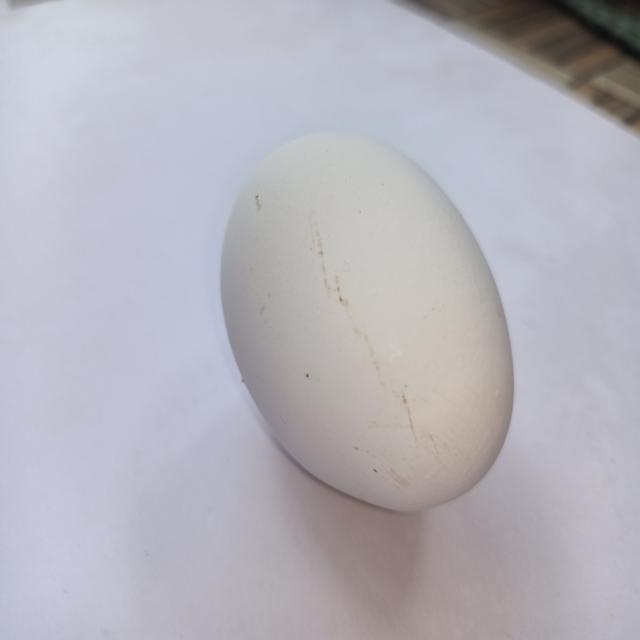Egg: (208, 105, 532, 538)
